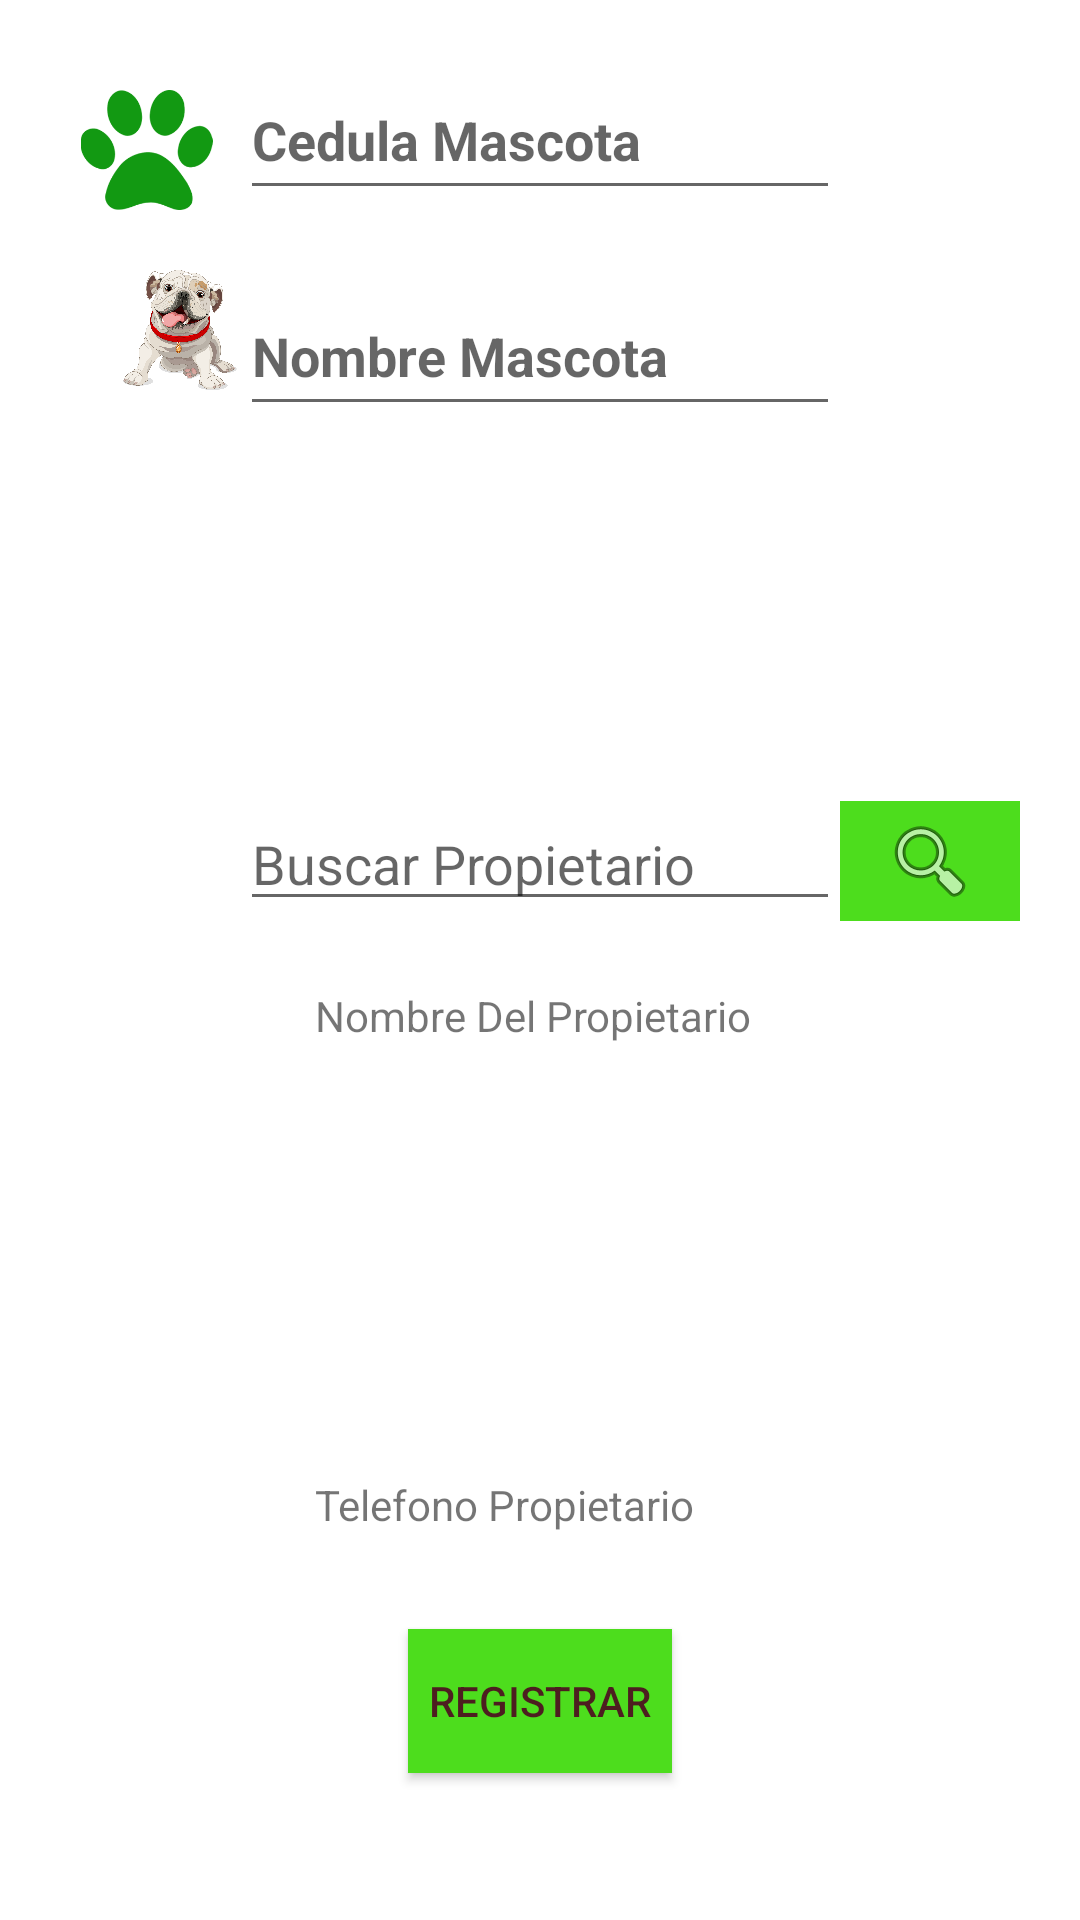

Named icons in this screenshot (1080w x 1920h) and their bounding boxes, (x1, y1, x2, y2):
huella: (81, 90, 213, 210)
perro: (123, 270, 236, 390)
search: (840, 801, 1020, 921)
